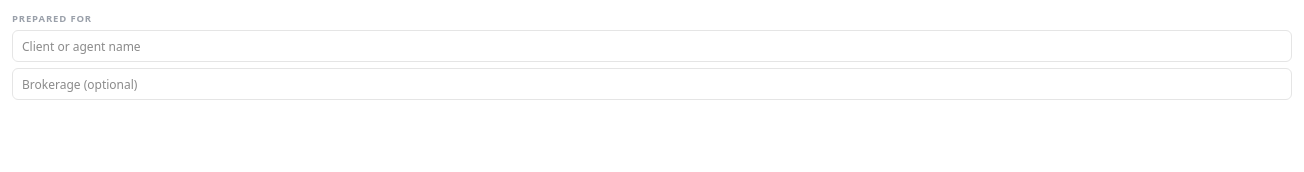
Test: a name the operator has used before › fills the brokerage when a suggestion is picked
Focus the dropdown at (652, 46), box left=12, top=30, right=1292, bottom=62
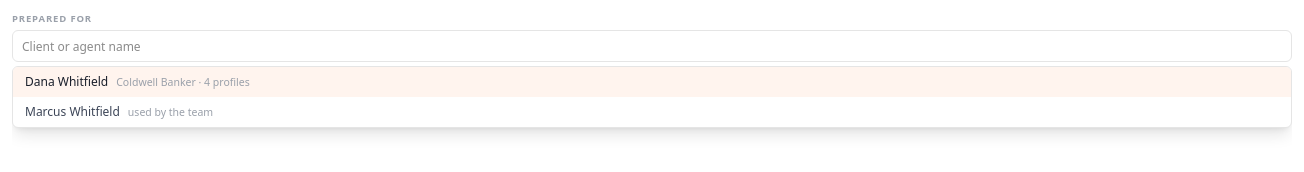
Result: the number of options is 2
Press the mouse on the option "Dana WhitfieldColdwell Banker · 4 profiles" at (67, 82), box left=13, top=67, right=1291, bottom=97
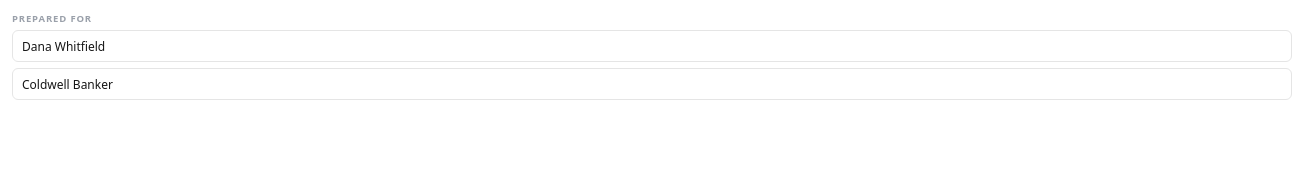
Result: the dropdown holds "Dana Whitfield" at left=12, top=30, right=1292, bottom=62
Result: the field named "Brokerage" holds "Coldwell Banker" at left=12, top=68, right=1292, bottom=100
